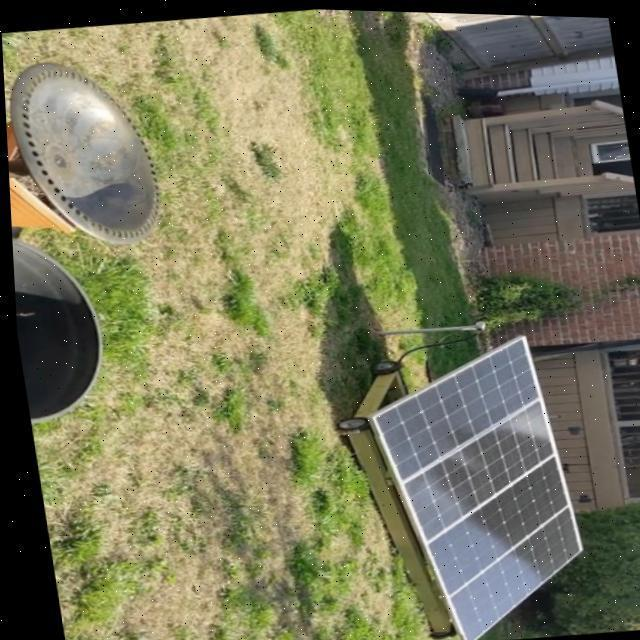Normal Solar Panel: (356, 324, 588, 640)
